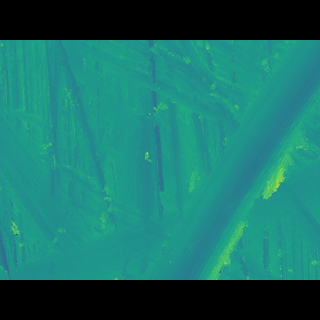Loch: (144, 69, 320, 250), (0, 114, 98, 230)
